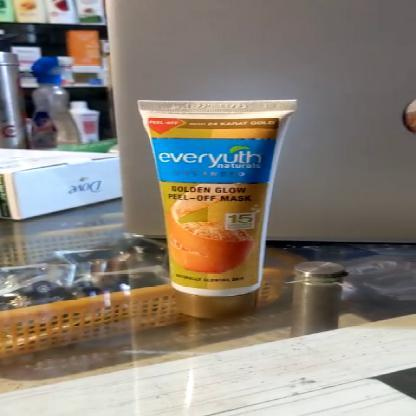EY ADVANCED GOLDEN GLOW PEEL OFF M- 90G: (139, 98, 296, 322)
